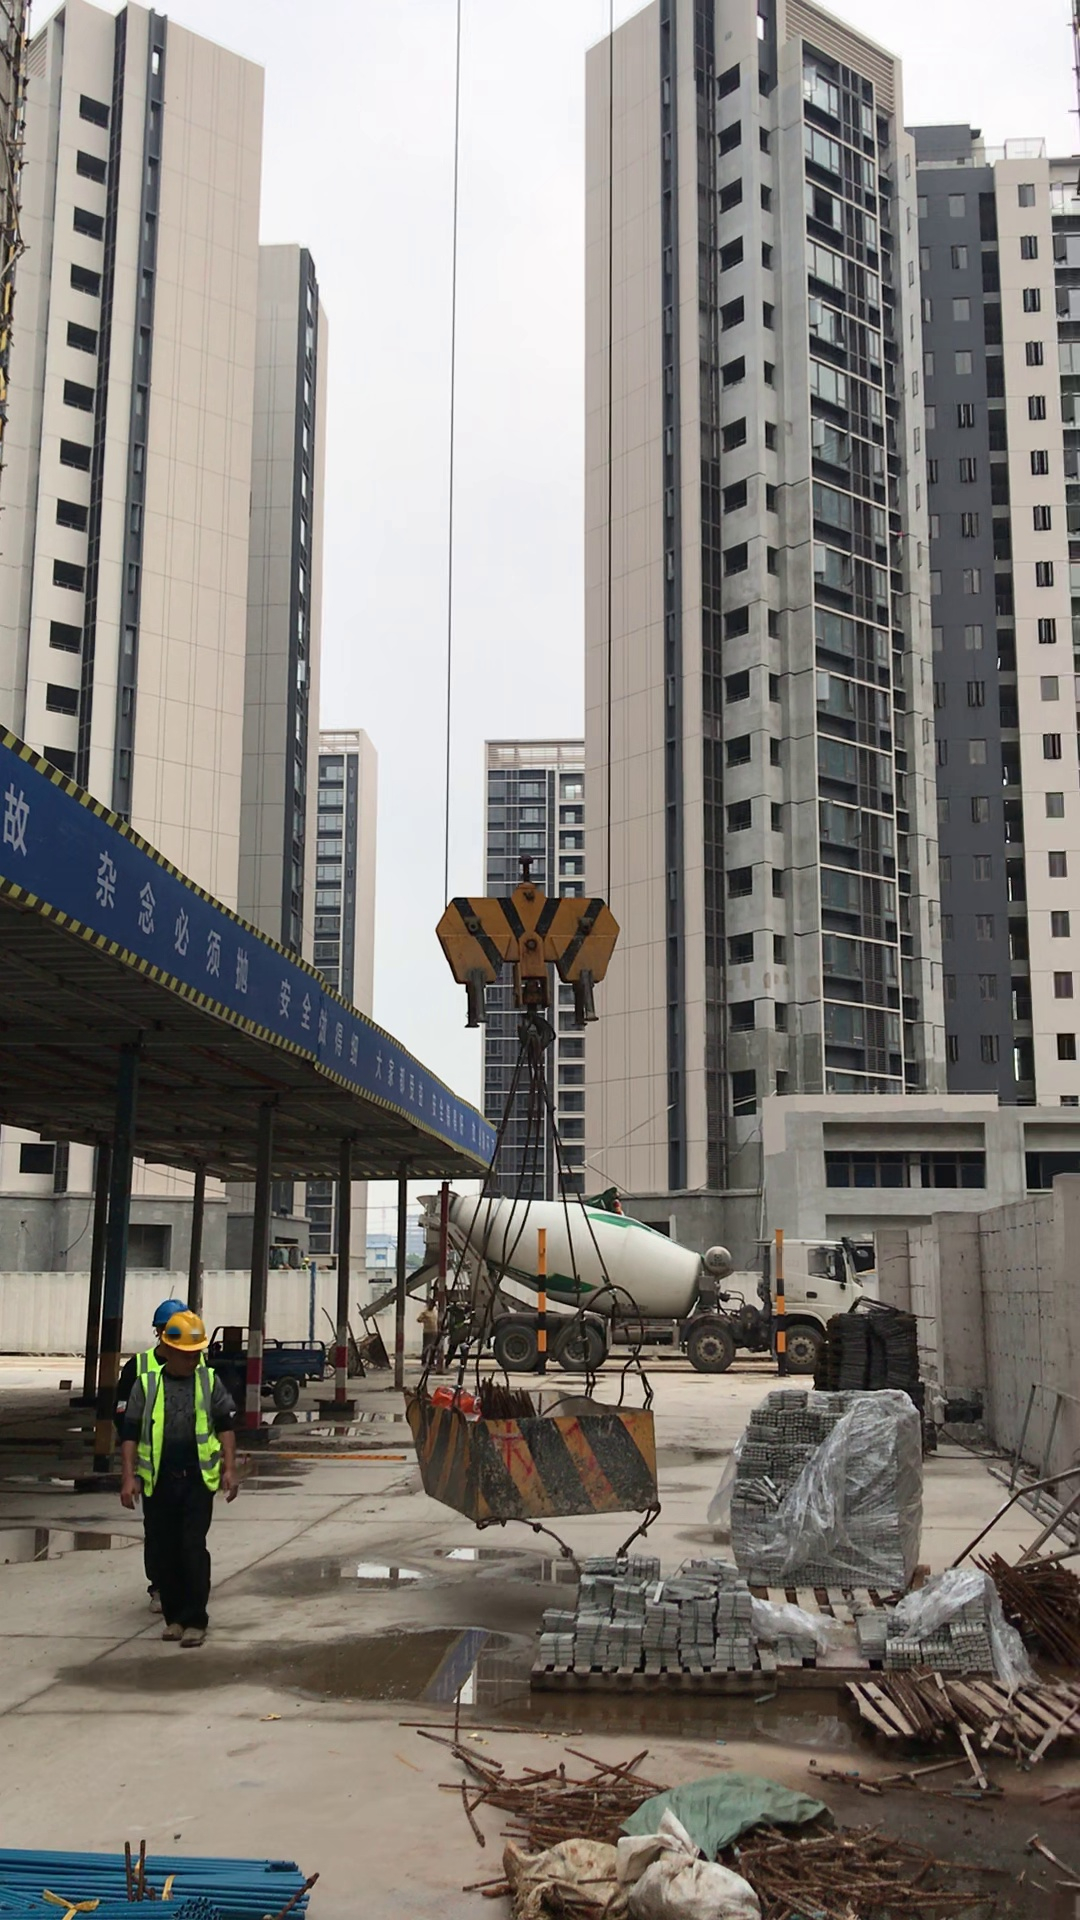handcart: (323, 1300, 392, 1370)
helmet: (143, 1291, 203, 1344)
hook: (417, 869, 632, 1011)
person: (146, 1315, 236, 1656)
slogan: (11, 756, 496, 1172)
vest: (145, 1370, 224, 1494)
